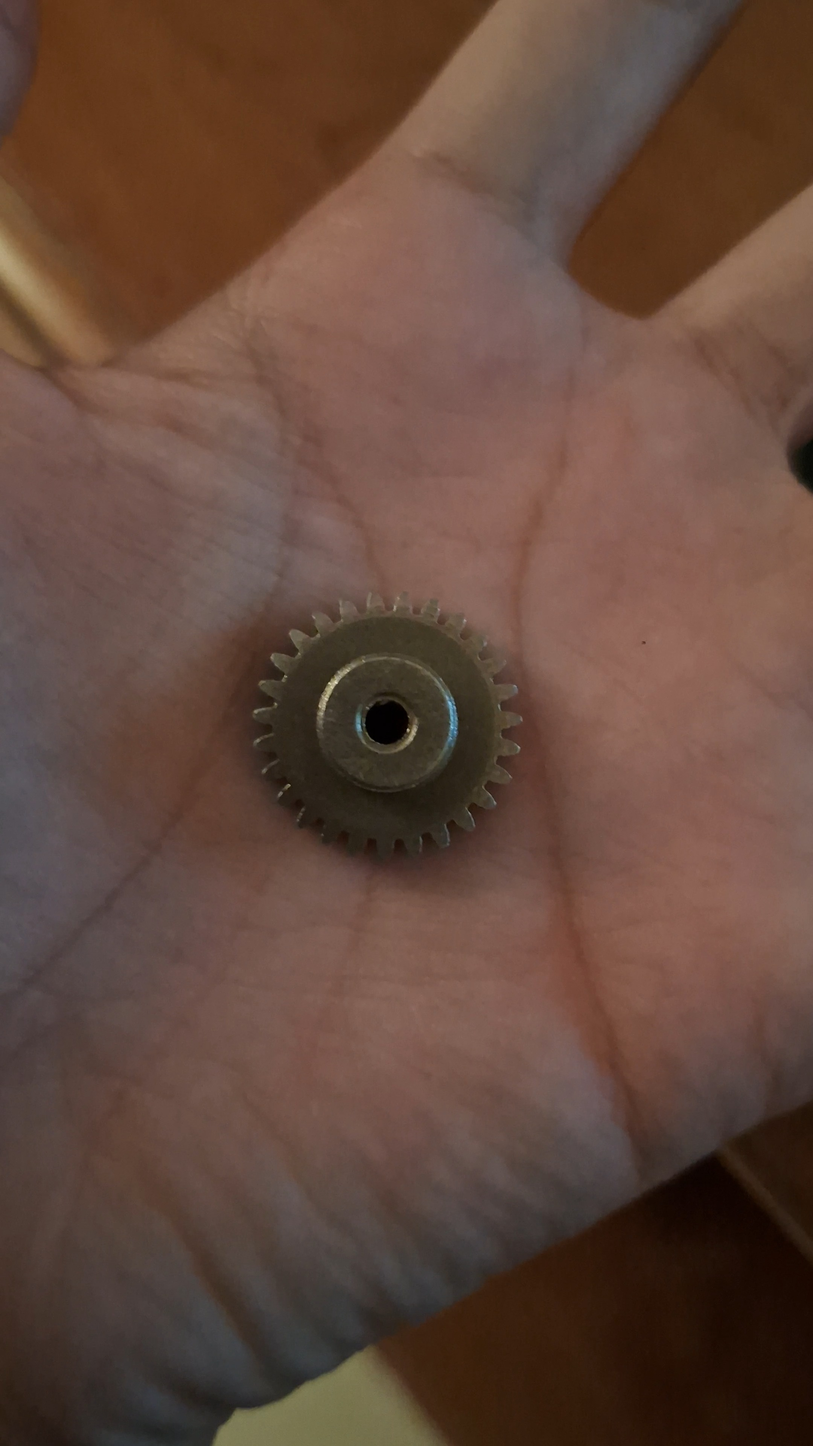spur gear: (254, 593, 521, 857)
